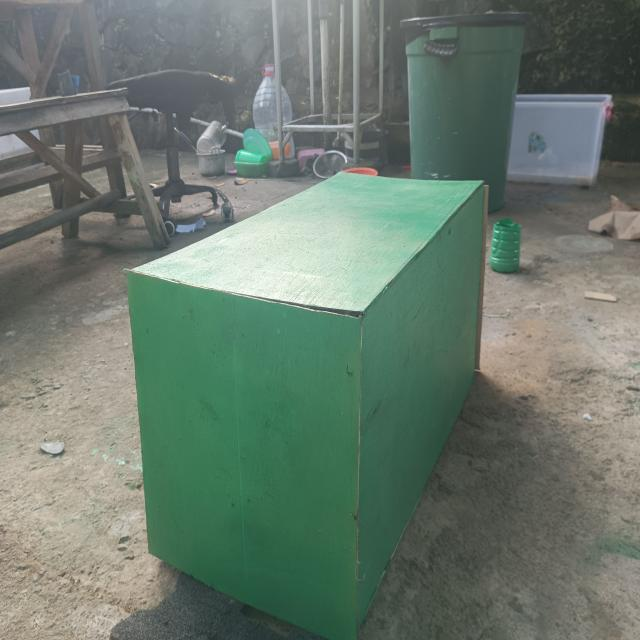green_box: (108, 110, 509, 640)
